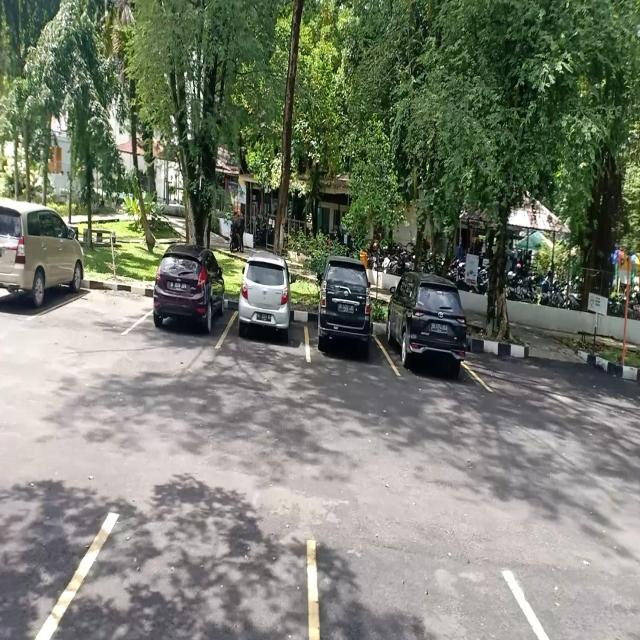empty: (65, 270, 151, 335)
occupied: (0, 231, 84, 323), (382, 298, 473, 380), (231, 277, 308, 362), (148, 270, 233, 346), (307, 297, 382, 365)
